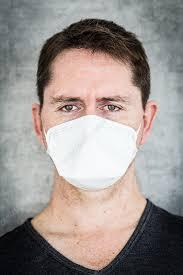mask: (41, 113, 146, 192)
